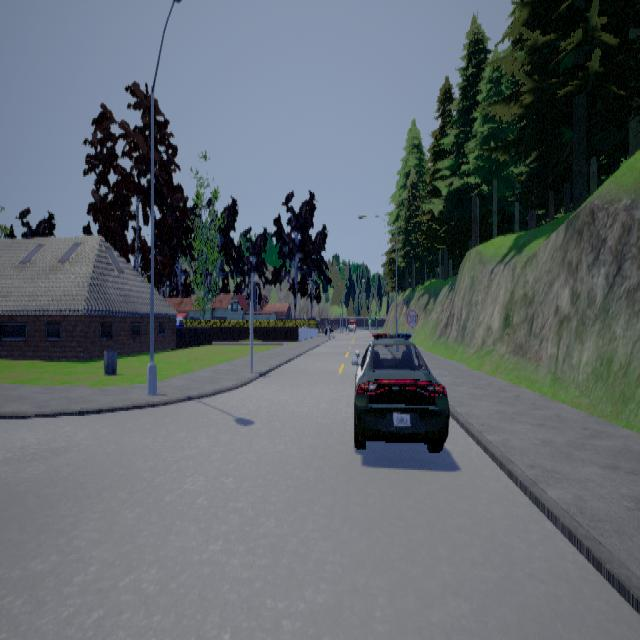traffic_sign: (406, 308, 417, 327)
vehicle: (350, 332, 449, 451)
